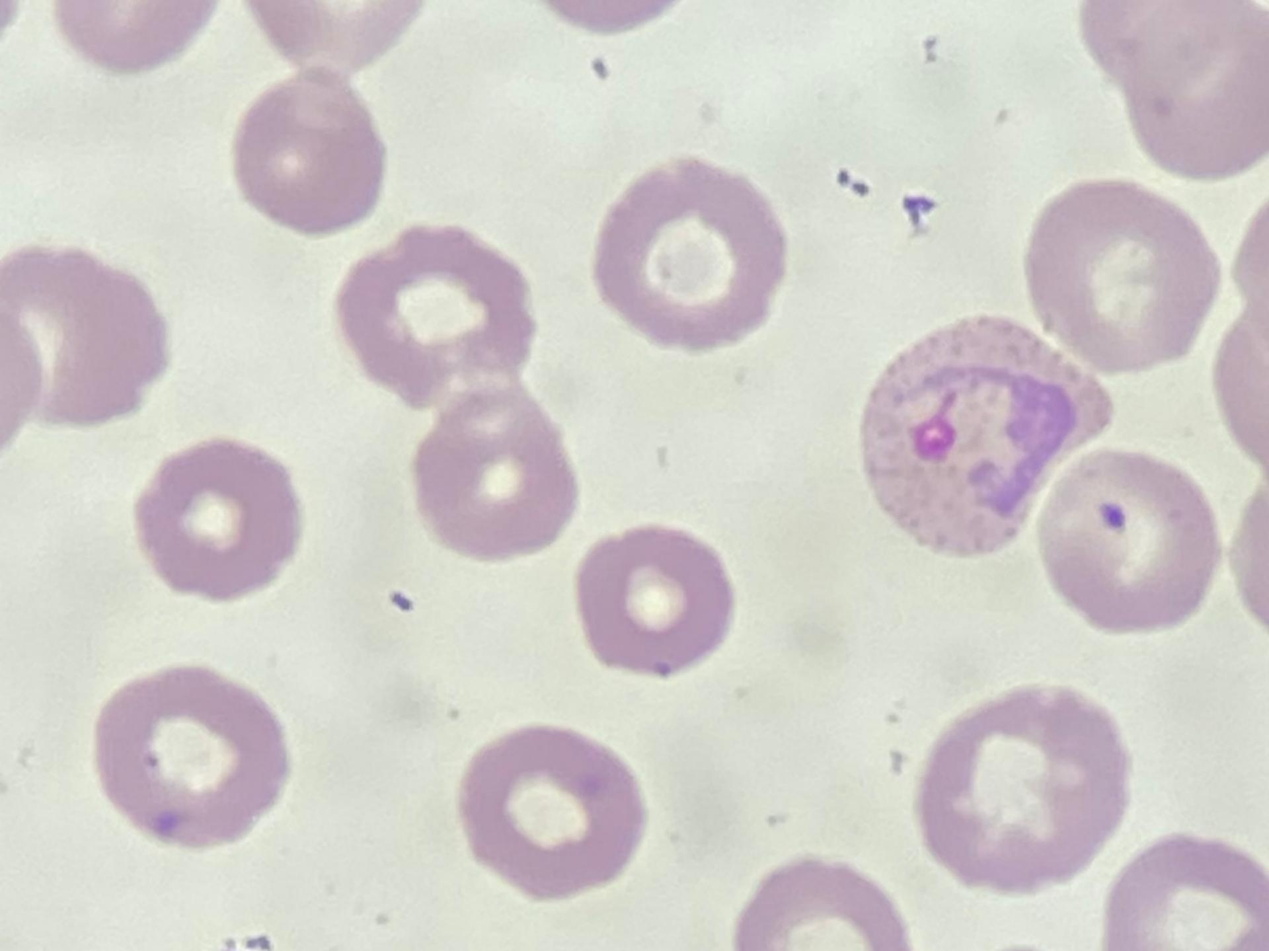Infected: (864, 314, 1113, 558)
Uninfected: (919, 684, 1135, 890), (593, 159, 787, 356), (1027, 184, 1216, 373), (97, 666, 285, 846), (1042, 446, 1219, 636), (335, 234, 539, 396), (1084, 0, 1269, 174), (463, 732, 649, 894), (0, 243, 167, 420), (130, 433, 307, 599), (412, 395, 573, 558), (573, 521, 728, 675), (236, 78, 389, 234)
